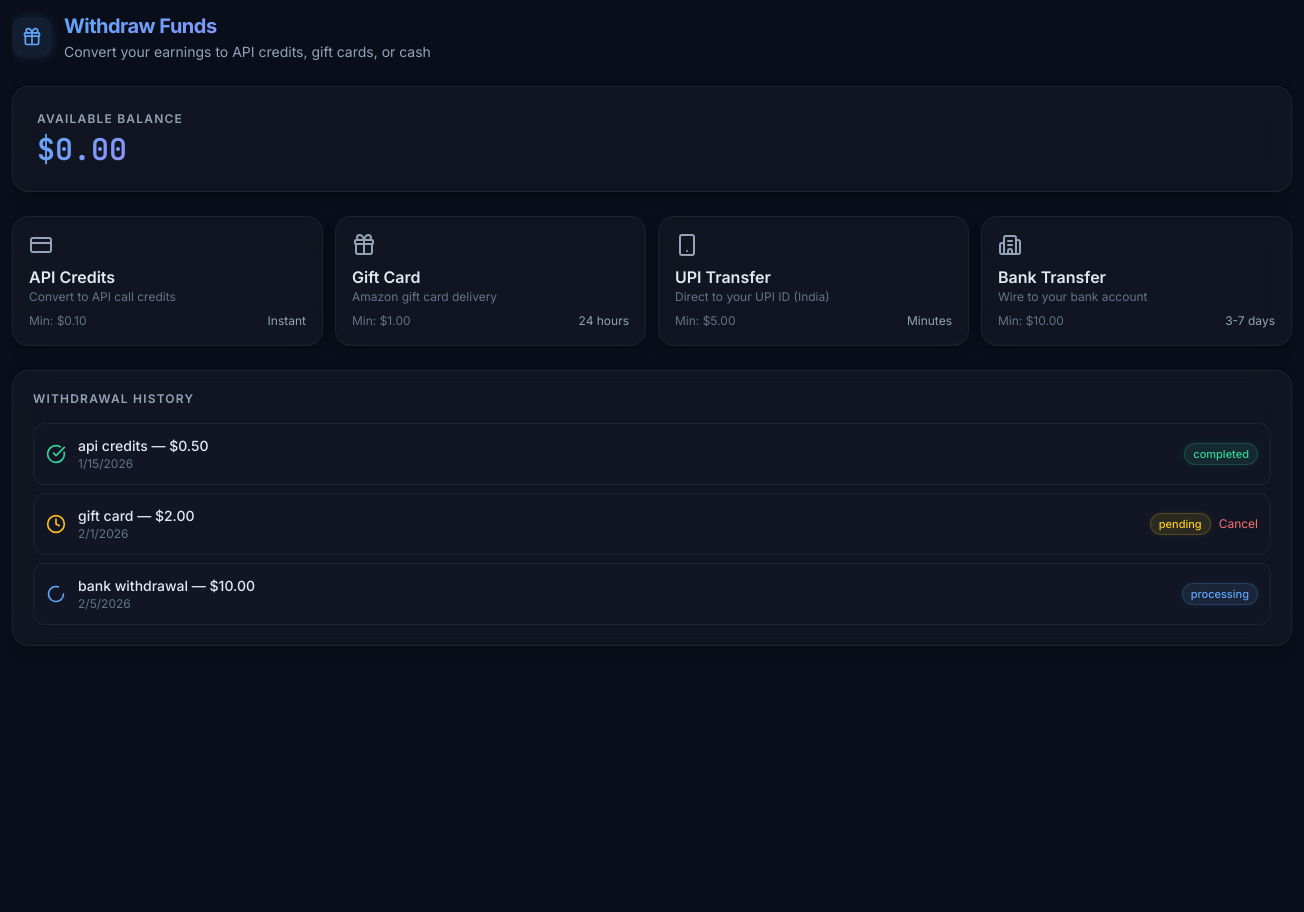
Scenario: RedemptionPage › shows loading state during withdrawal submission
This screenshot has width=1304, height=912.
Check: the text "API Credits" is shown, box [29,267,115,287]
Step 1. Click the button "API Credits Convert to API call credits Min: $0.10 Instant" → (72, 277), box [12,216,323,346]
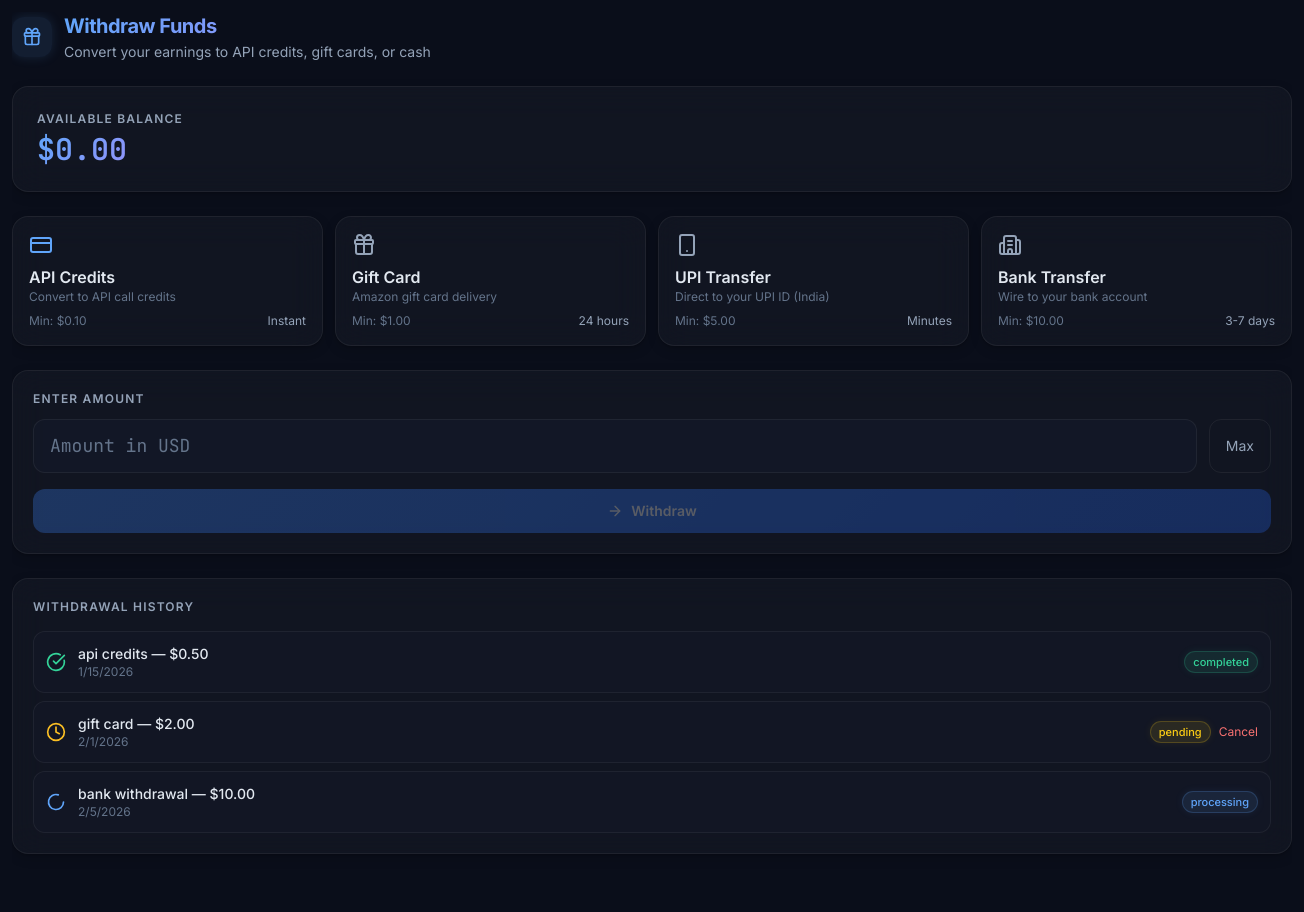
Step 2. Type "5.00" into the number field with placeholder "Amount in USD" → (615, 446), box [33,419,1197,473]
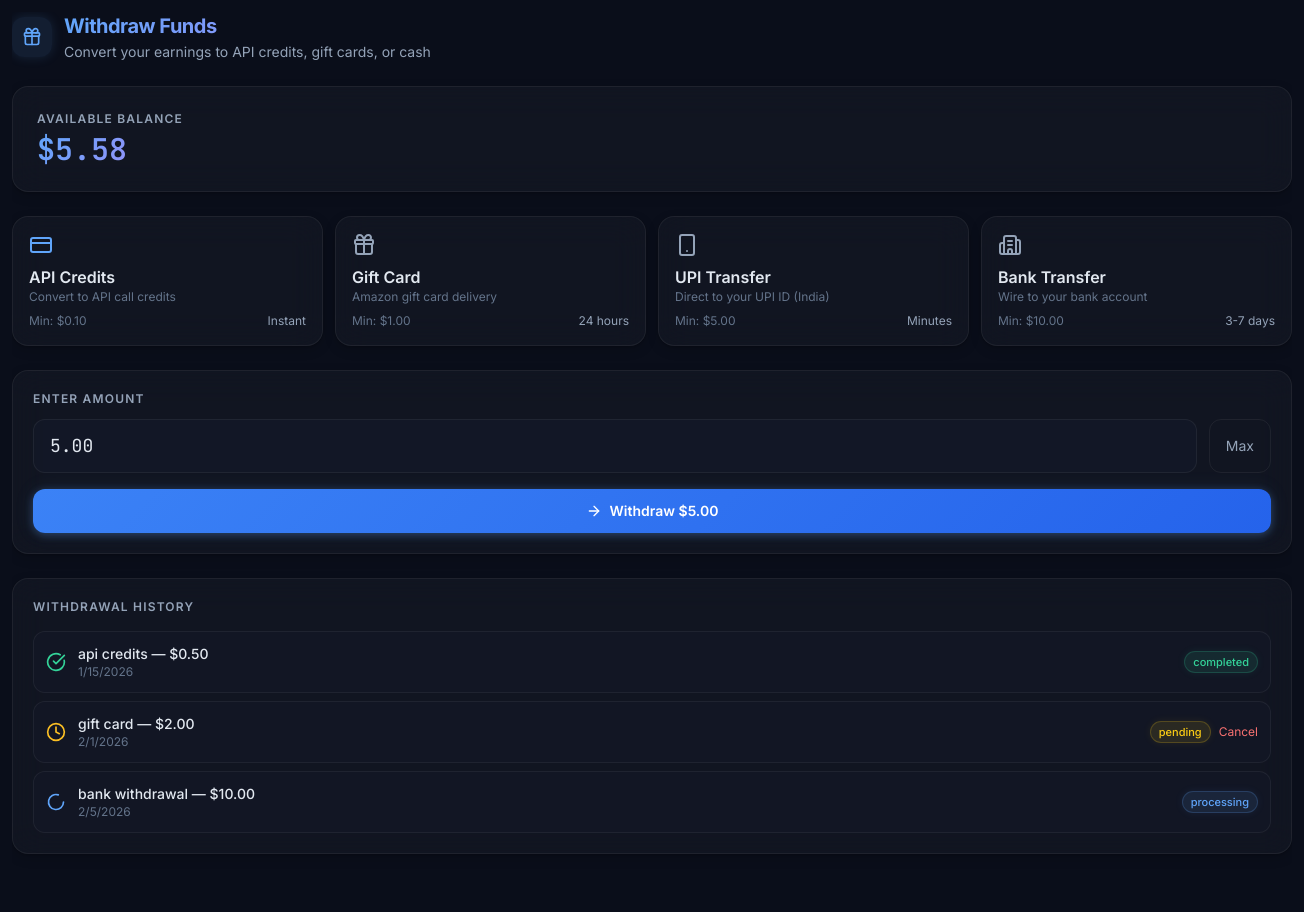
Step 3. Click the button "Withdraw $5.00" → (652, 511), box [33,489,1271,533]
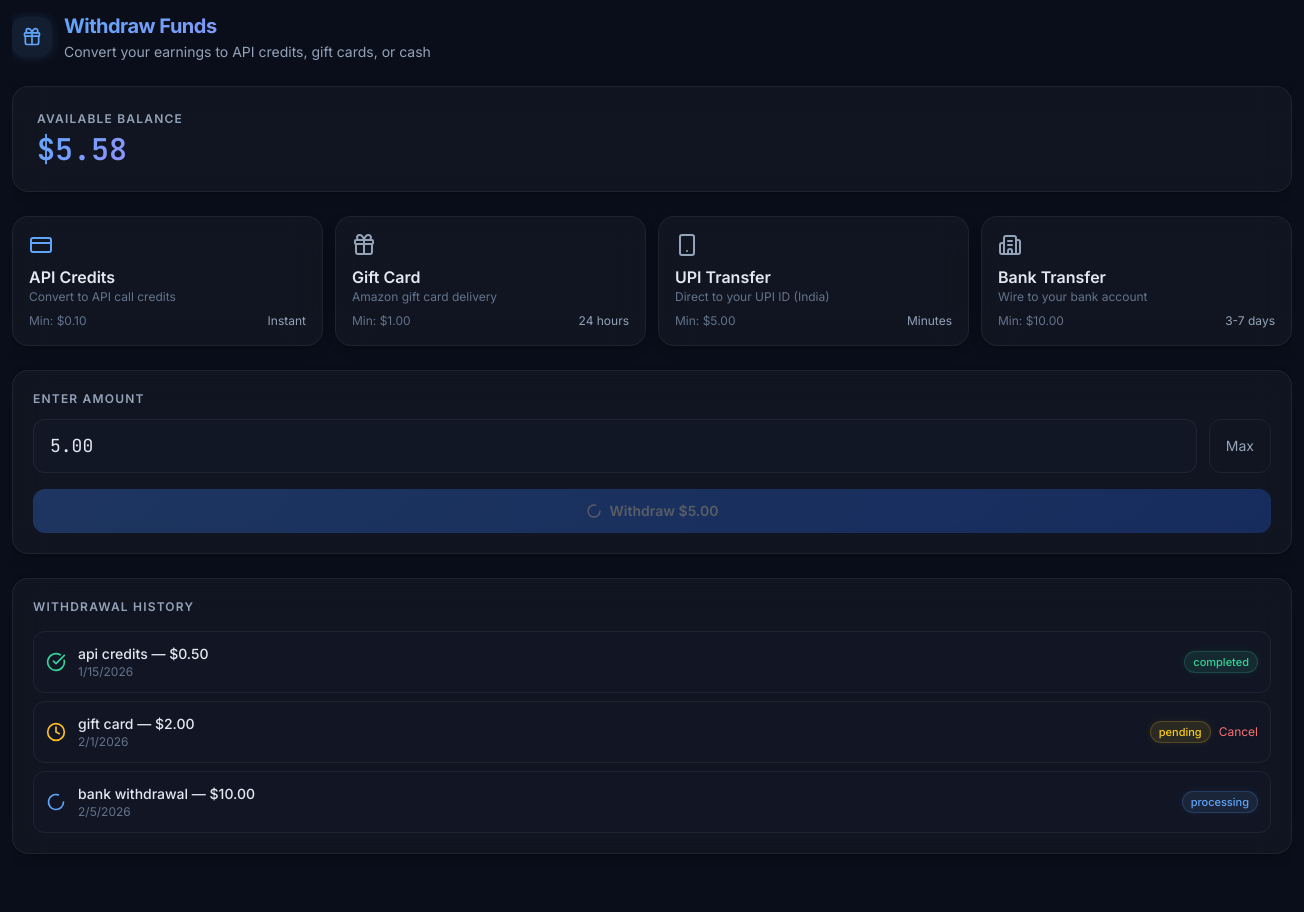
Check: the button "Withdraw $5.00" is disabled, box [33,489,1271,533]
